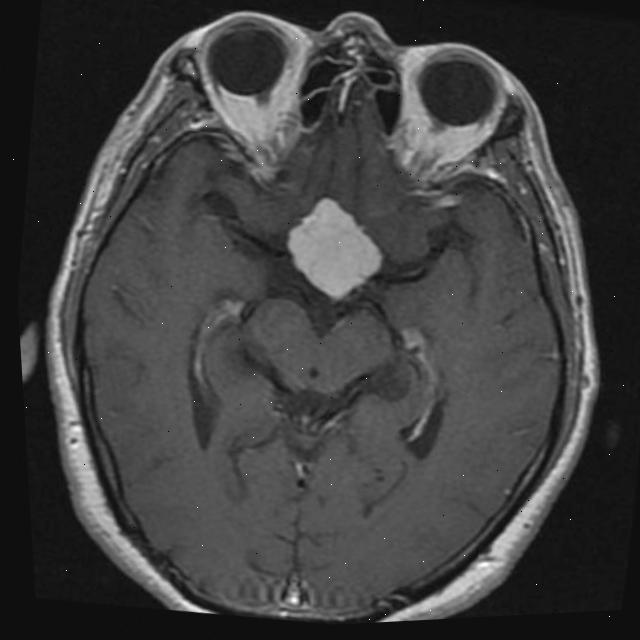Meningioma: (276, 186, 395, 312)
